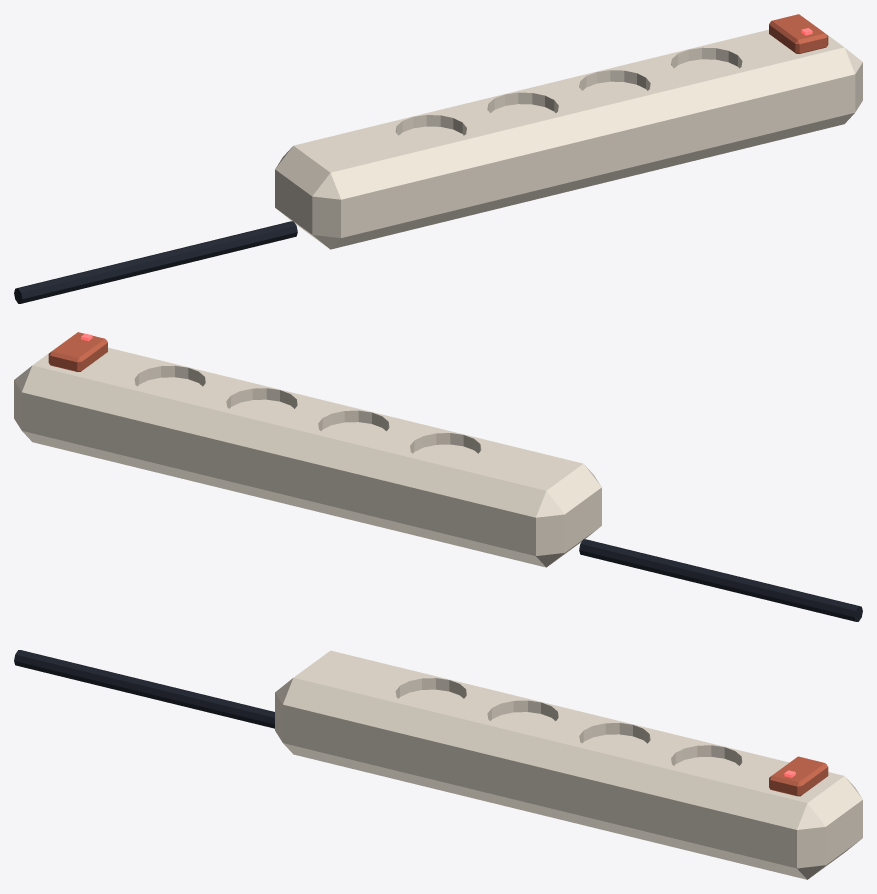
The model's file is power_strip_4.glb.
The picture shows the model from 3 angles, top to bottom: view 1: azimuth 30°, elevation 25°; view 2: azimuth 150°, elevation 25°; view 3: azimuth 330°, elevation 25°; orthographic projection.
Visible parts, largest first — view 1: body, cord, switch; view 2: body, cord, switch; view 3: body, cord, switch.
Part boxes in pixels (box(x1,y1,x2,y2)): body: box(275, 22, 862, 249); cord: box(14, 221, 297, 303); switch: box(769, 14, 828, 53); body: box(14, 340, 601, 567); cord: box(579, 539, 862, 621); switch: box(48, 332, 107, 371); body: box(275, 650, 862, 879); cord: box(14, 650, 274, 728); switch: box(769, 756, 828, 796).
Bounding box in the file's own units: 0.45 × 0.0485 × 0.055.
